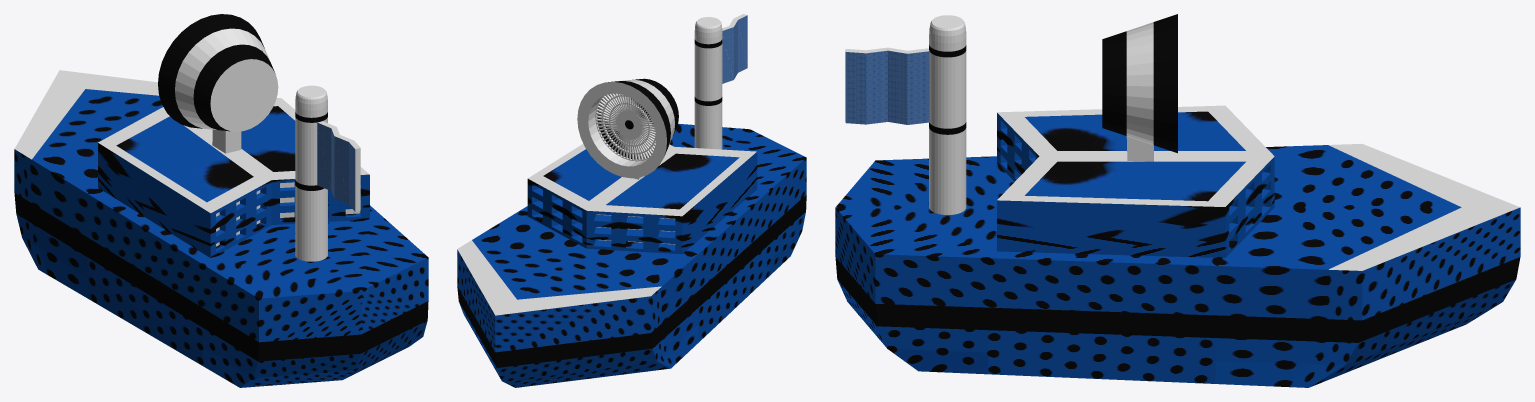
The model's file is BLUE_Flagship.fbx.
The picture shows the model from 3 angles, left to right: view 1: azimuth 30°, elevation 25°; view 2: azimuth 150°, elevation 25°; view 3: azimuth 270°, elevation 25°; orthographic projection. The views are drawn at different scales.
Parts seen in each view (by area): view 1: Cube, Cylinder, Cylinder.001; view 2: Cube, Cylinder, Cylinder.001; view 3: Cube, Cylinder.001, Cylinder.
Boxes of the visible parts, box(x1,y1,x2,y2) form: Cube: box(14, 70, 428, 387); Cylinder: box(158, 14, 278, 153); Cylinder.001: box(295, 85, 360, 261); Cube: box(457, 123, 806, 387); Cylinder: box(577, 78, 678, 179); Cylinder.001: box(694, 14, 747, 149); Cube: box(835, 105, 1520, 387); Cylinder.001: box(845, 15, 966, 214); Cylinder: box(1102, 14, 1177, 161).
Bounding box in the file's own units: 510 × 569 × 1160.
